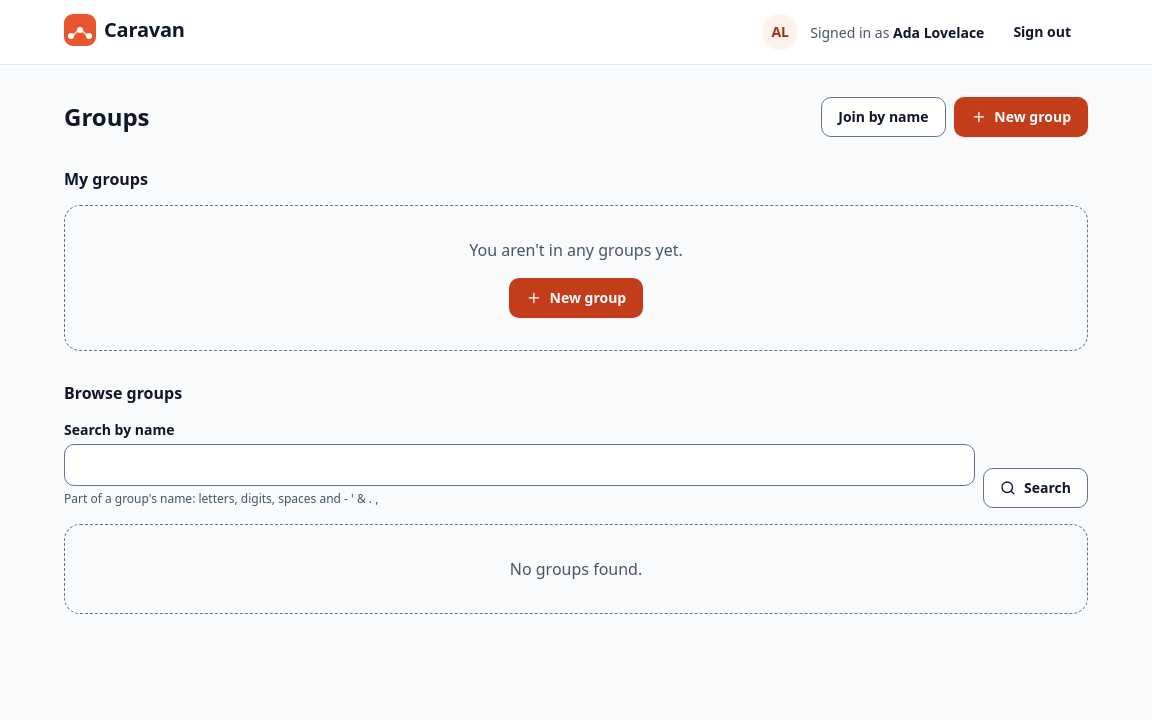
Scenario: signing in and out › stays signed in and shows an alert when sign-out fails
Click the button "Sign out". click: (1042,32)
box: [996,12,1088,52]
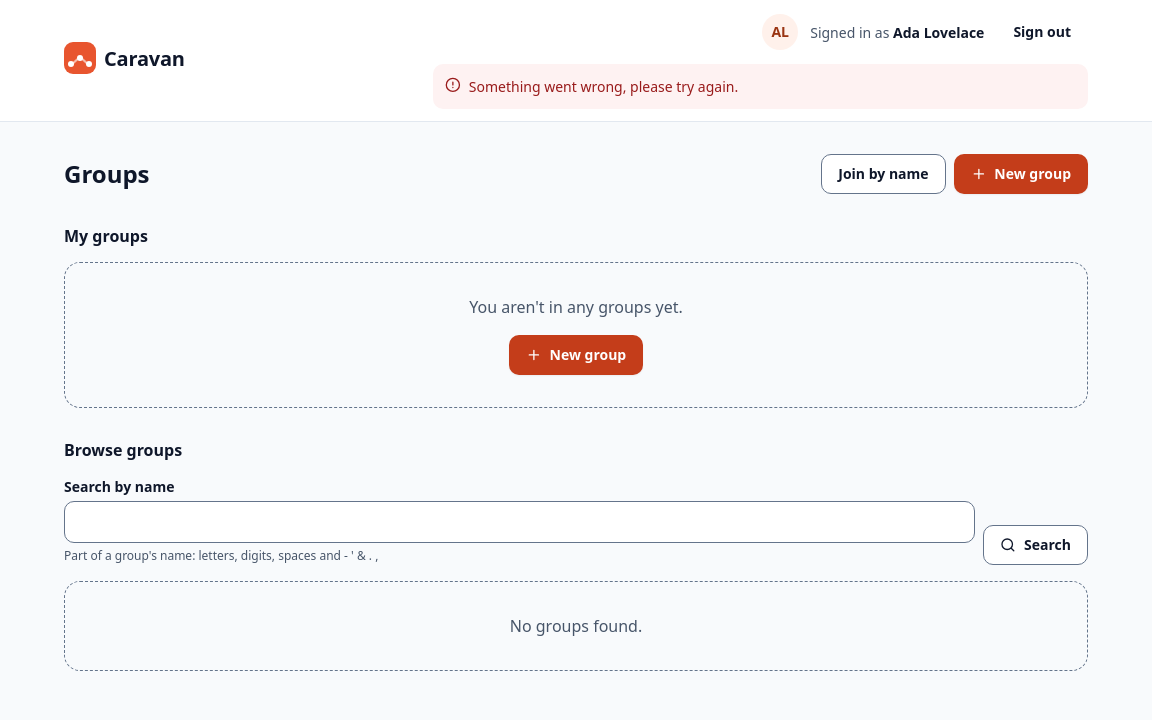
Expected: the text "Ada Lovelace" is shown, [893,22,984,42]
Expected: the message shows "Something went wrong", [469,77,738,96]
